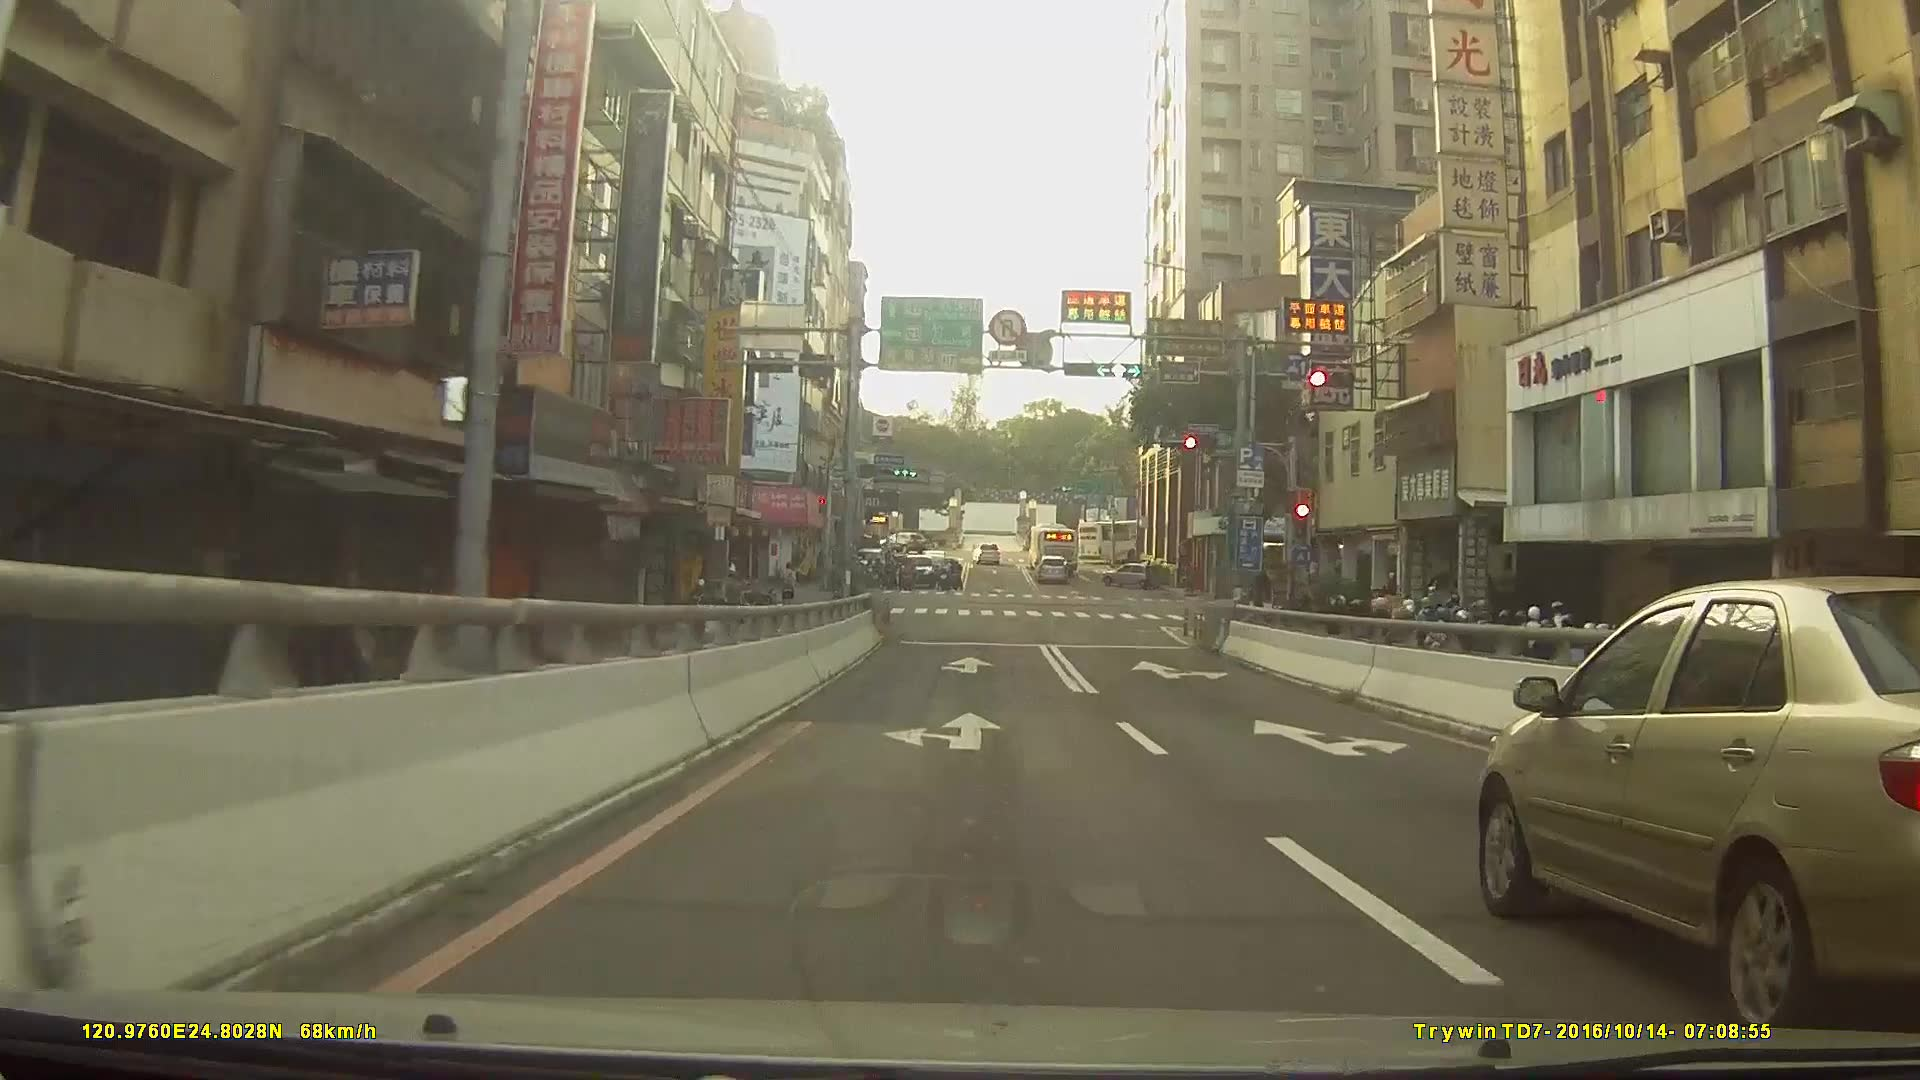rider: (680, 576, 725, 651)
vehicle: (1474, 574, 1920, 1026), (1077, 517, 1166, 564), (1029, 519, 1077, 567), (1099, 559, 1169, 588), (897, 553, 939, 588), (880, 528, 930, 551), (1034, 552, 1070, 580), (972, 539, 1001, 563)
